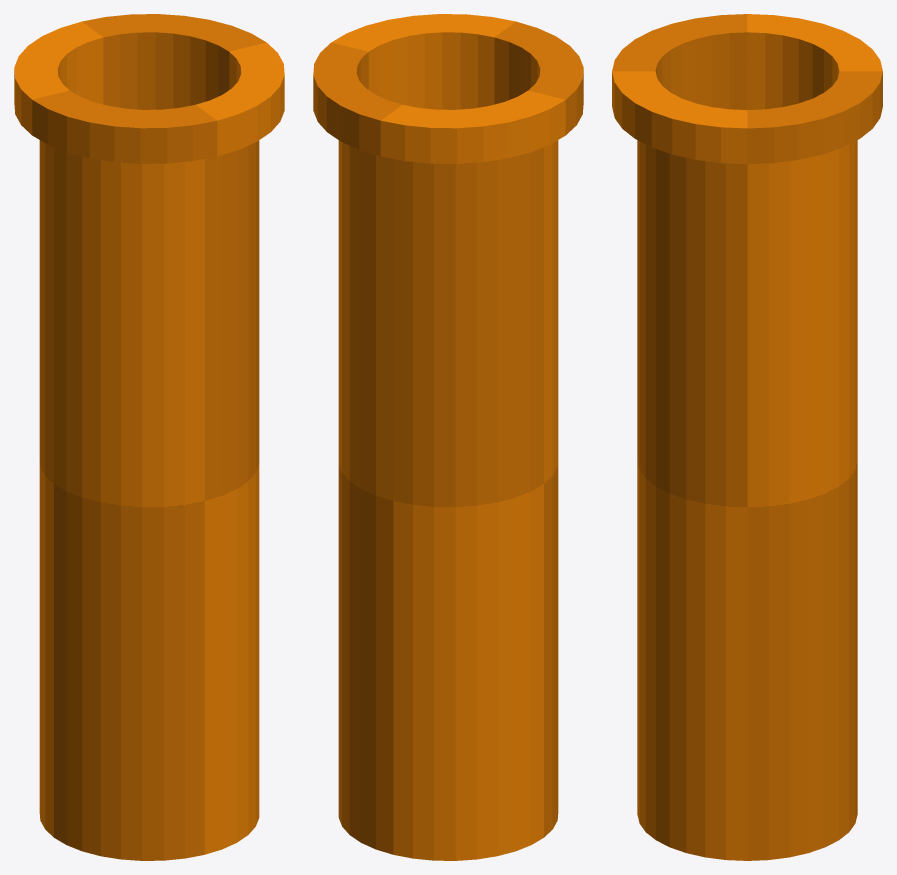
The model's file is ANT-ball01-tunnel-only.glb.
The picture shows the model from 3 angles, left to right: view 1: azimuth 30°, elevation 25°; view 2: azimuth 150°, elevation 25°; view 3: azimuth 270°, elevation 25°; orthographic projection.
Parts seen in each view (by area): view 1: MainTunnel; view 2: MainTunnel; view 3: MainTunnel.
Part boxes in pixels (box(x1,y1,x2,y2)): MainTunnel: box(14, 14, 284, 860); MainTunnel: box(313, 14, 583, 860); MainTunnel: box(612, 14, 882, 860).
Bounding box in the file's own units: 8.12 × 24.58 × 8.12.
Materials: 1 (1 with a texture image).
